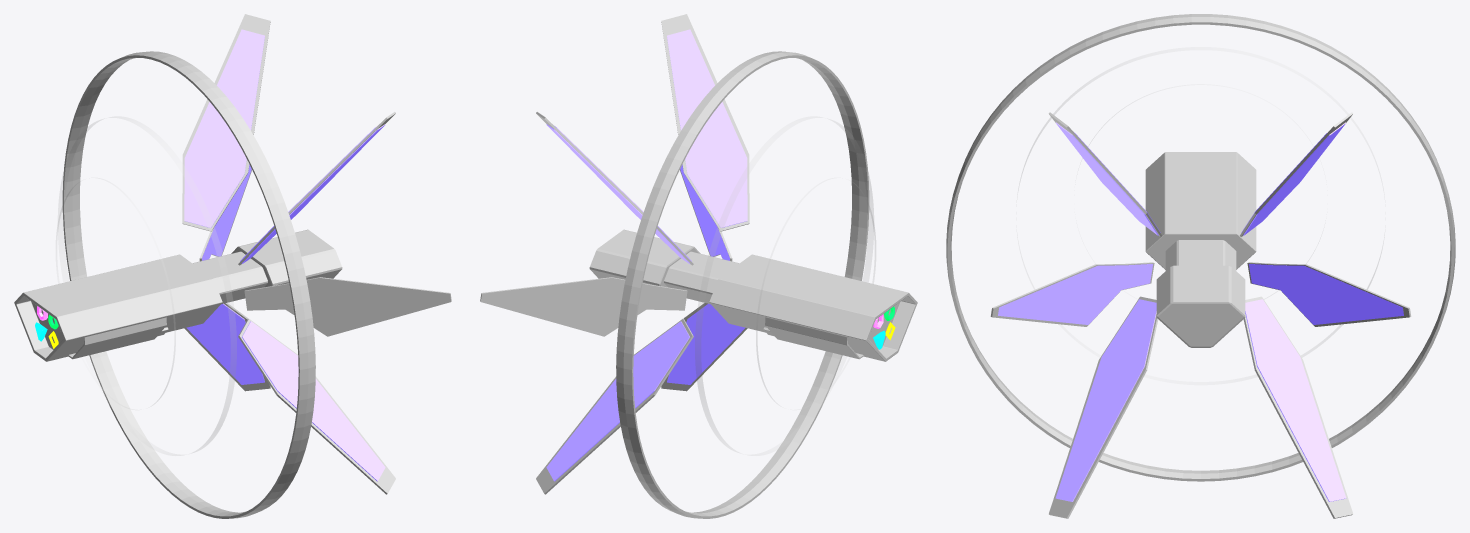
Rendered from Music_Station.fbx.
The picture shows the model from 3 angles, left to right: view 1: azimuth 30°, elevation 25°; view 2: azimuth 150°, elevation 25°; view 3: azimuth 270°, elevation 25°; orthographic projection. The views are drawn at different scales.
Visible parts, largest first — view 1: Plane.001, Torus, Cylinder.003, Plane.004, Cylinder, Cylinder.004, Cylinder.001, Cylinder.006; view 2: Plane.001, Torus, Cylinder.003, Plane.004, Cylinder, Cylinder.004, Cylinder.001, Cylinder.006; view 3: Plane.001, Torus, Plane.004, Cylinder.003, Cylinder.004, Cylinder.001, Cylinder.
Boxes of the visible parts, box(x1,y1,x2,y2) form: Plane.001: box(182, 14, 395, 494); Torus: box(62, 51, 315, 518); Cylinder.003: box(14, 254, 222, 361); Plane.004: box(199, 164, 451, 336); Cylinder: box(58, 117, 236, 455); Cylinder.004: box(231, 229, 342, 287); Cylinder.001: box(192, 251, 267, 303); Cylinder.006: box(68, 317, 166, 359); Plane.001: box(536, 14, 749, 494); Torus: box(616, 51, 869, 518); Cylinder.003: box(709, 254, 917, 361); Plane.004: box(480, 164, 732, 336); Cylinder: box(695, 117, 873, 455); Cylinder.004: box(589, 229, 700, 287); Cylinder.001: box(664, 251, 739, 303); Cylinder.006: box(765, 317, 863, 359); Plane.001: box(1048, 112, 1353, 518); Torus: box(946, 14, 1455, 481); Plane.004: box(990, 262, 1411, 326); Cylinder.003: box(1145, 152, 1256, 269); Cylinder.004: box(1156, 265, 1245, 347); Cylinder.001: box(1165, 240, 1236, 270); Cylinder: box(1020, 47, 1381, 384).
Size of the model in its own units: 946 by 1244 by 1244.
